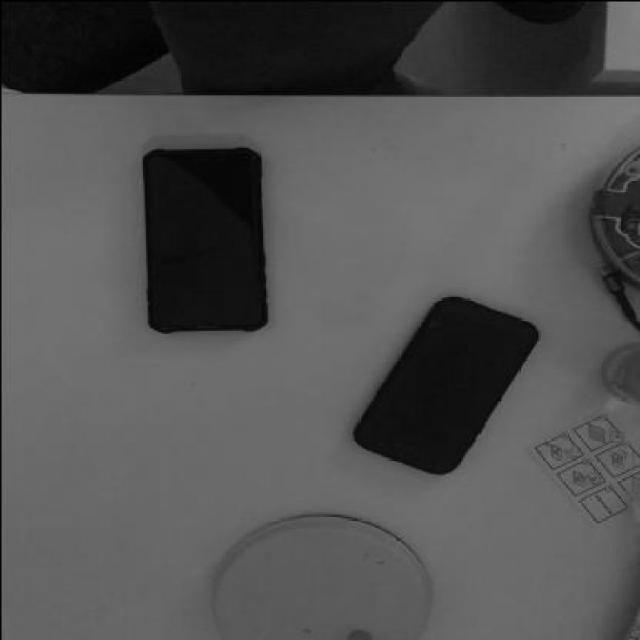fake: (348, 295, 542, 474), (139, 148, 263, 330)
